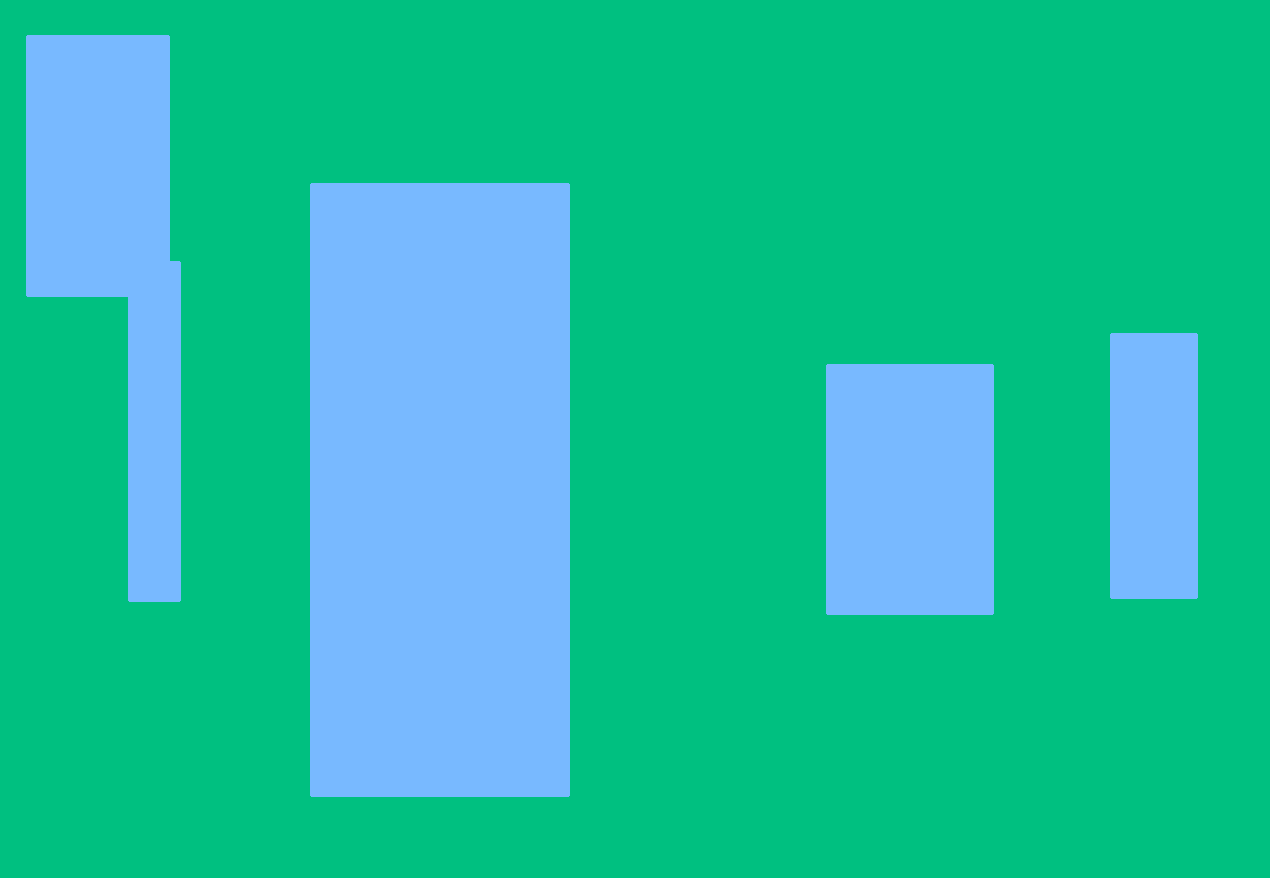Text_area: (311, 184, 568, 795), (827, 365, 992, 613), (27, 36, 168, 295), (1111, 334, 1196, 597), (129, 262, 179, 600)
